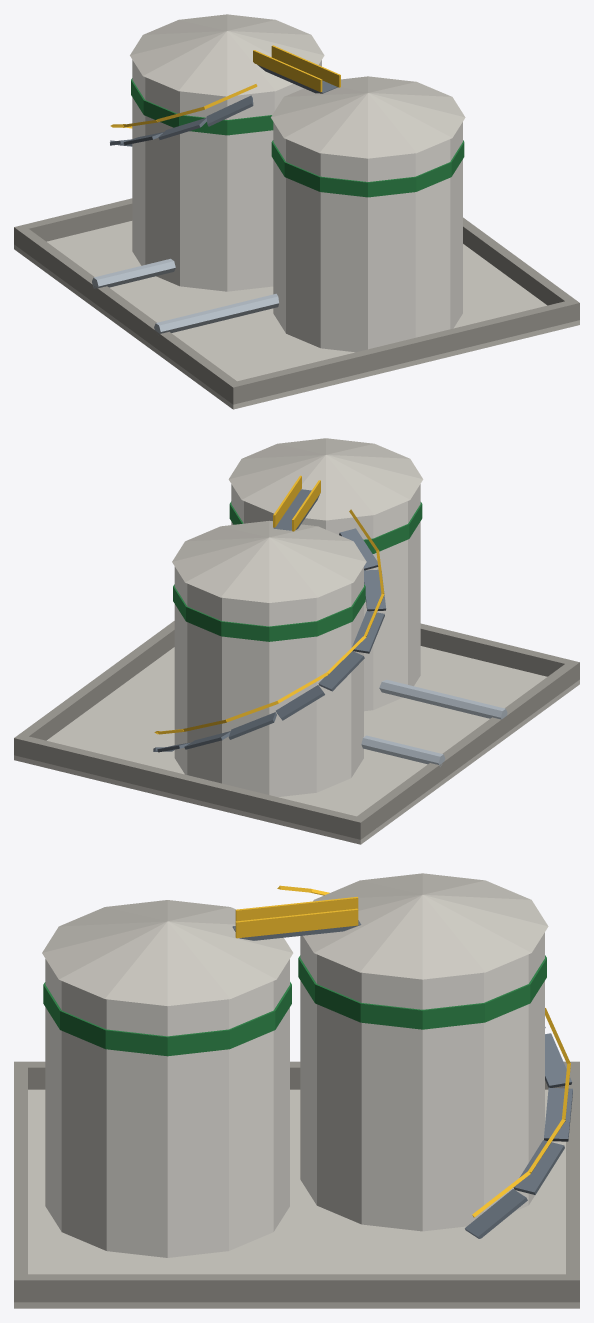
Rendered from tanque_grande.glb.
The picture shows the model from 3 angles, top to bottom: view 1: azimuth 30°, elevation 25°; view 2: azimuth 150°, elevation 25°; view 3: azimuth 270°, elevation 25°; orthographic projection. The views are drawn at different scales.
Visible parts, largest first — view 1: corpo; view 2: corpo; view 3: corpo.
Part boxes in pixels (left/top/right/bottom): corpo: left=14, top=14, right=579, bottom=409; corpo: left=14, top=438, right=579, bottom=844; corpo: left=14, top=873, right=579, bottom=1308.
Size of the model in its own units: 1.48 by 0.92 by 1.62.
